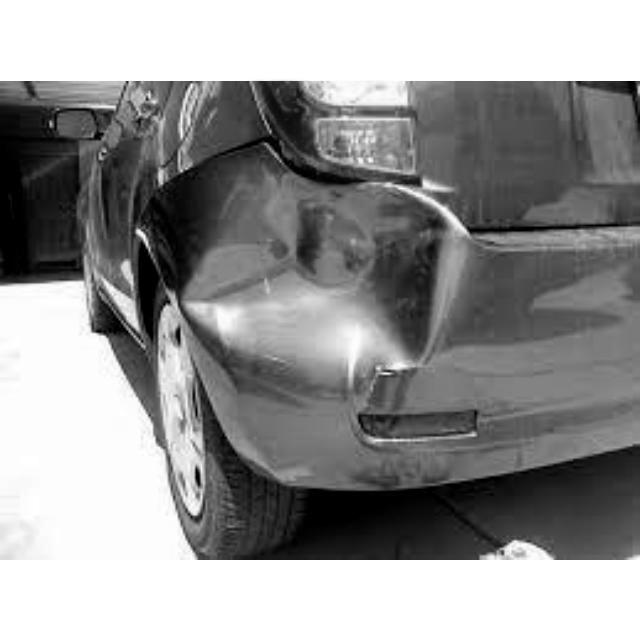rear-bumper-dent: (134, 187, 633, 485)
